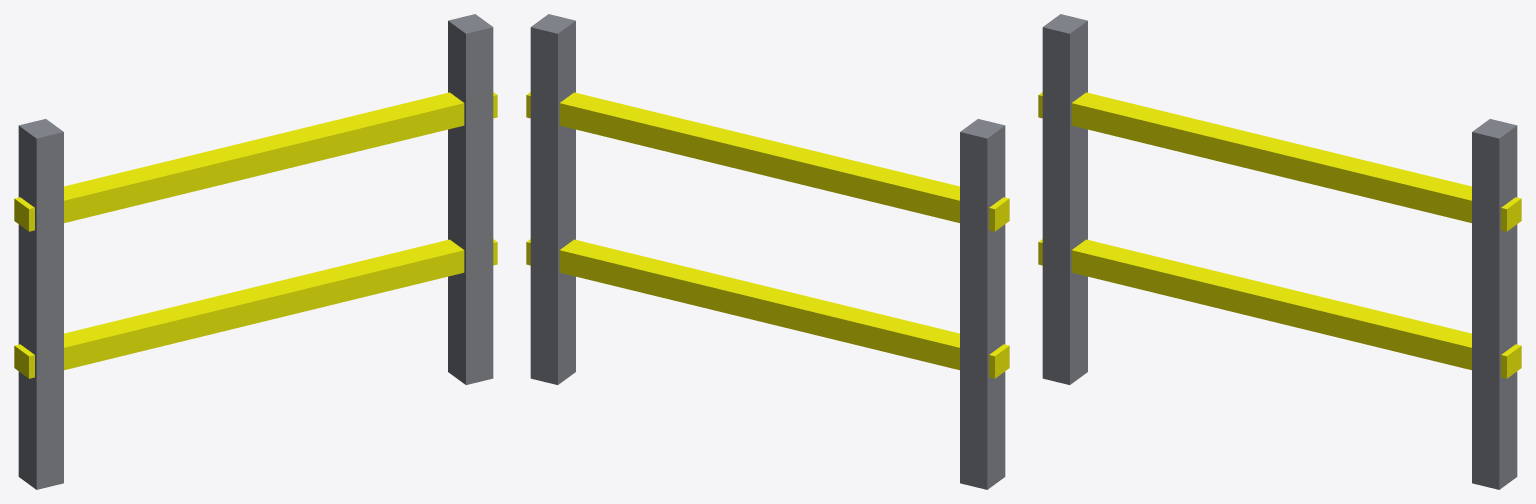
3 views of the same model, side by side, from view 1: azimuth 30°, elevation 25°; view 2: azimuth 150°, elevation 25°; view 3: azimuth 330°, elevation 25° (orthographic).
Visible parts, largest first — view 1: Fence post, Fence post.001, Fence beam.001, Fence beam; view 2: Fence post, Fence post.001, Fence beam.001, Fence beam; view 3: Fence post.001, Fence post, Fence beam.001, Fence beam.
Part boxes in pixels (<box>): Fence post: <box>18,119,63,489</box>; Fence post.001: <box>448,14,493,384</box>; Fence beam.001: <box>14,92,497,231</box>; Fence beam: <box>14,239,497,378</box>; Fence post: <box>960,119,1005,489</box>; Fence post.001: <box>530,14,575,384</box>; Fence beam.001: <box>526,92,1009,231</box>; Fence beam: <box>526,239,1009,378</box>; Fence post.001: <box>1472,119,1517,489</box>; Fence post: <box>1042,14,1087,384</box>; Fence beam.001: <box>1038,92,1521,231</box>; Fence beam: <box>1038,239,1521,378</box>.
Bounding box in the file's own units: 120 × 86 × 8.
